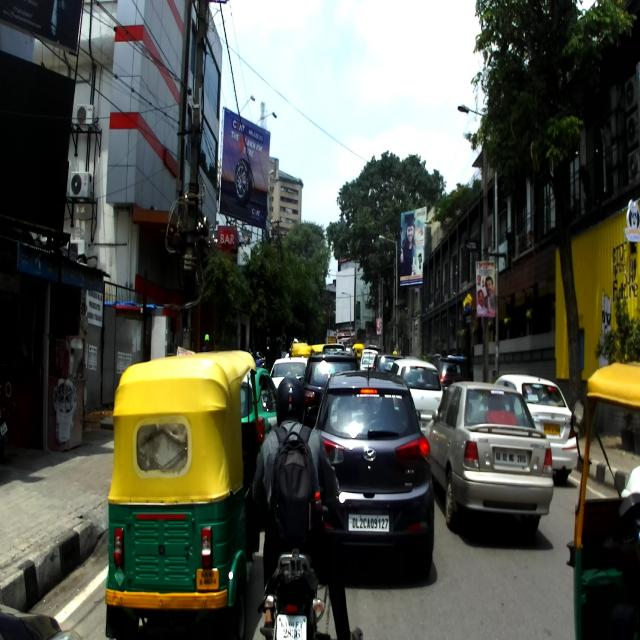autorickshaw: (104, 348, 266, 638), (566, 360, 640, 640)
car: (306, 370, 435, 584), (423, 381, 553, 536), (492, 374, 578, 483), (300, 352, 360, 428)
motorcycle: (248, 467, 337, 639)
